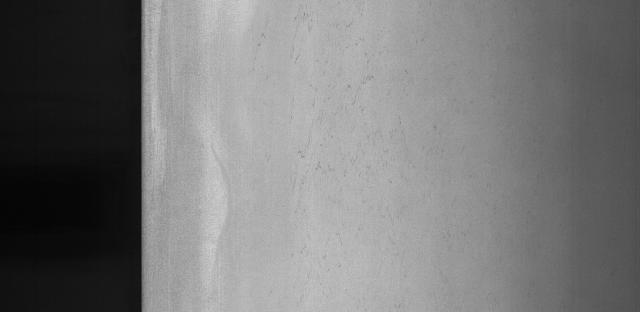silk_spot: (264, 7, 408, 229)
